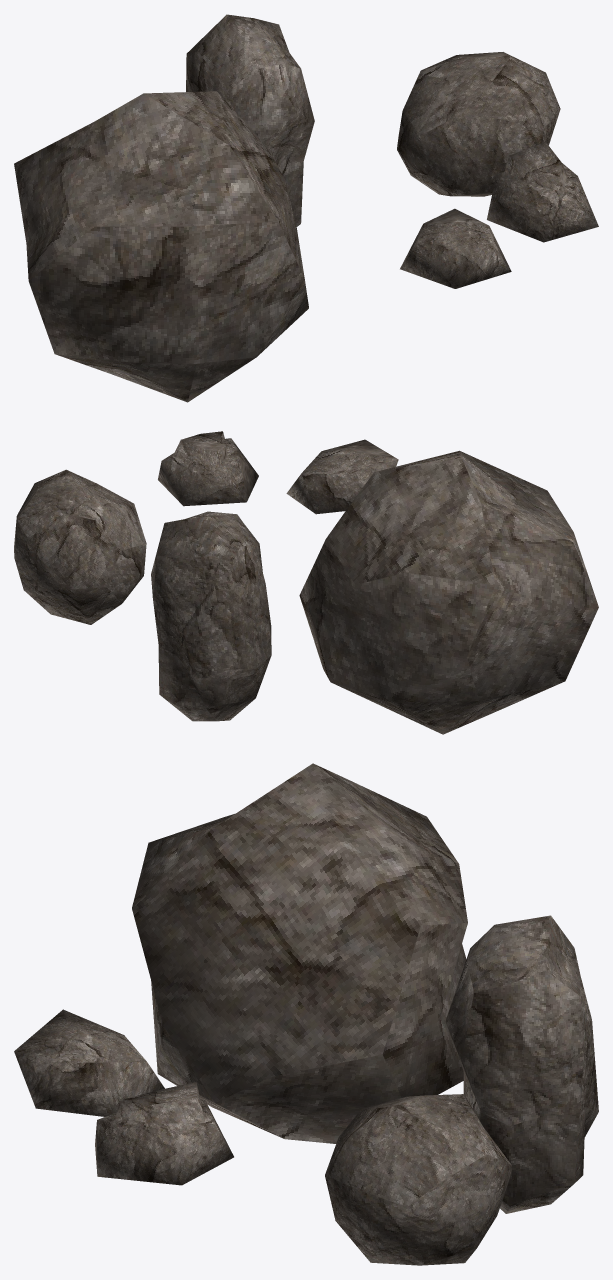
File: low_poly_rock_set.glb
3 renders of one model, top to bottom at view 1: azimuth 30°, elevation 25°; view 2: azimuth 150°, elevation 25°; view 3: azimuth 270°, elevation 25°, orthographic. The views are drawn at different scales.
Parts seen in each view (by area): view 1: rock-medium, rock-large, rock-tall-skiny, rock-tophat, flat-rock; view 2: rock-medium, rock-tall-skiny, rock-large, rock-tophat, flat-rock; view 3: rock-medium, rock-tall-skiny, rock-large, rock-tophat, flat-rock.
Boxes of the visible parts, x1,y1,x2,y2 form: rock-medium: (14, 91, 308, 402); rock-large: (397, 52, 560, 196); rock-tall-skiny: (186, 14, 314, 226); rock-tophat: (487, 142, 598, 242); flat-rock: (400, 208, 511, 288); rock-medium: (299, 450, 598, 734); rock-tall-skiny: (151, 511, 271, 721); rock-large: (14, 469, 146, 624); rock-tophat: (158, 431, 258, 506); flat-rock: (286, 439, 398, 514); rock-medium: (132, 763, 467, 1143); rock-tall-skiny: (445, 915, 598, 1213); rock-large: (325, 1094, 511, 1265); rock-tophat: (95, 1082, 233, 1185); flat-rock: (14, 1009, 164, 1116).
Bounding box in the file's own units: 8.17 × 3.94 × 5.85.
Materials: 1 (1 with a texture image).
